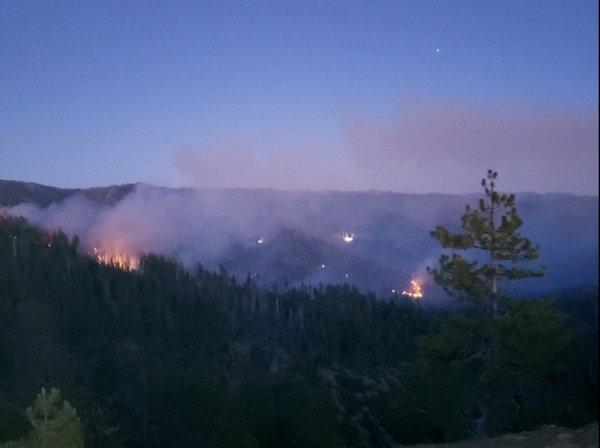Fire: (93, 245, 142, 275), (400, 276, 428, 300)
Smoke: (311, 81, 587, 228), (29, 131, 287, 246)
